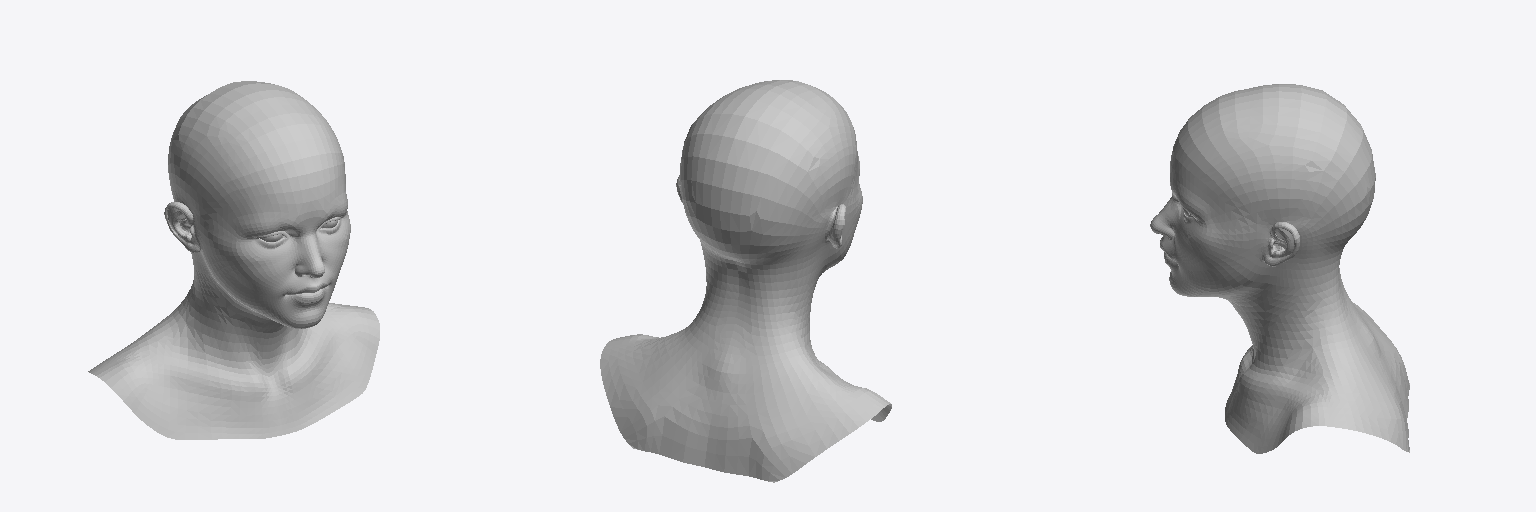
The model's file is FinalHeadToRender.obj.
The picture shows the model from 3 angles: view 1: azimuth 30°, elevation 25°; view 2: azimuth 150°, elevation 25°; view 3: azimuth 270°, elevation 25°; orthographic projection.
Parts seen in each view (by area): view 1: head____N; view 2: head____N; view 3: head____N.
Boxes of the visible parts, x1=… form: head____N: x1=88, y1=81, x2=379, y2=439; head____N: x1=600, y1=80, x2=891, y2=482; head____N: x1=1150, y1=84, x2=1409, y2=453.
Bounding box in the file's own units: 312 × 357 × 255.